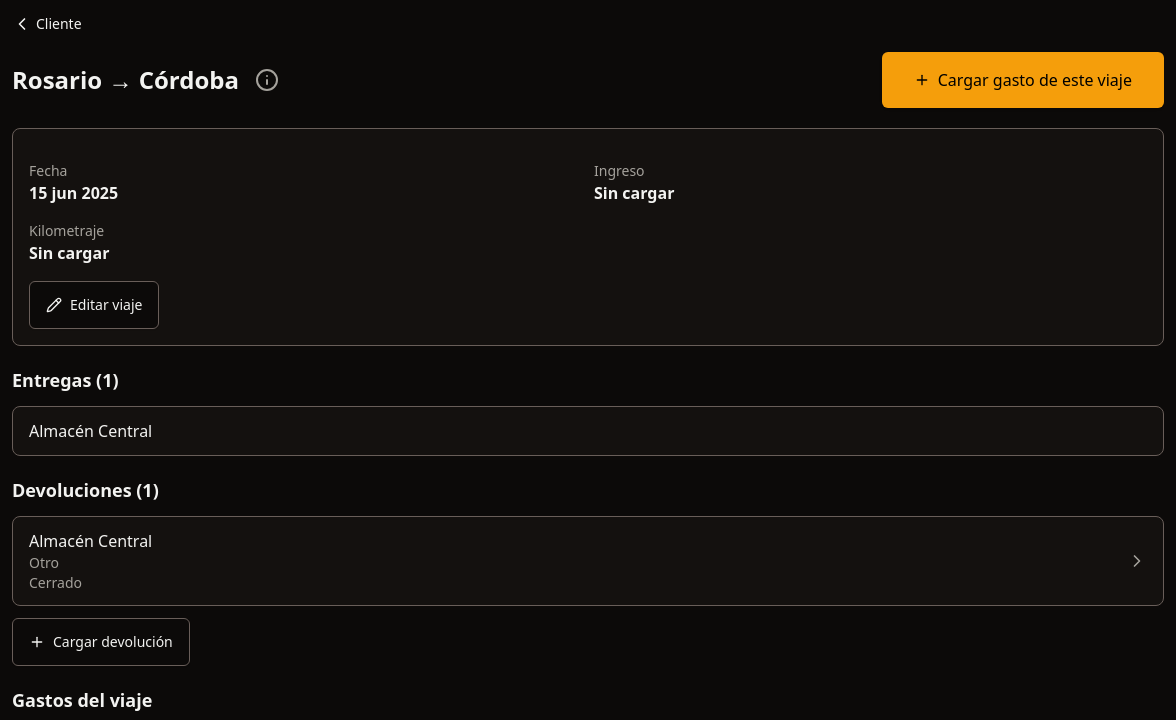
Test case: lo que se abre desde ese detalle devuelve el cliente al volver › editar el viaje: el enlace "Viaje" y el guardado vuelven al detalle con el cliente
Click the link "Editar viaje" at (94, 305), box [29,281,159,329]
(page scrolled)
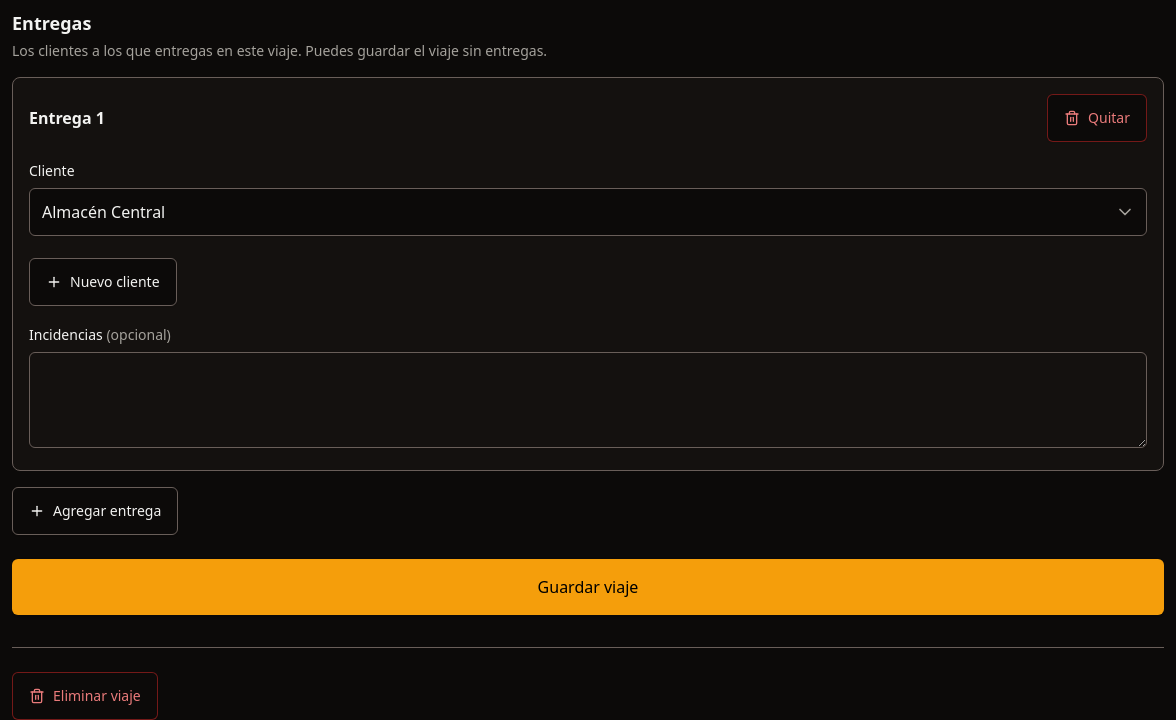
Click the button "Guardar viaje" at (588, 587), box [12,559,1164,615]
(page scrolled)
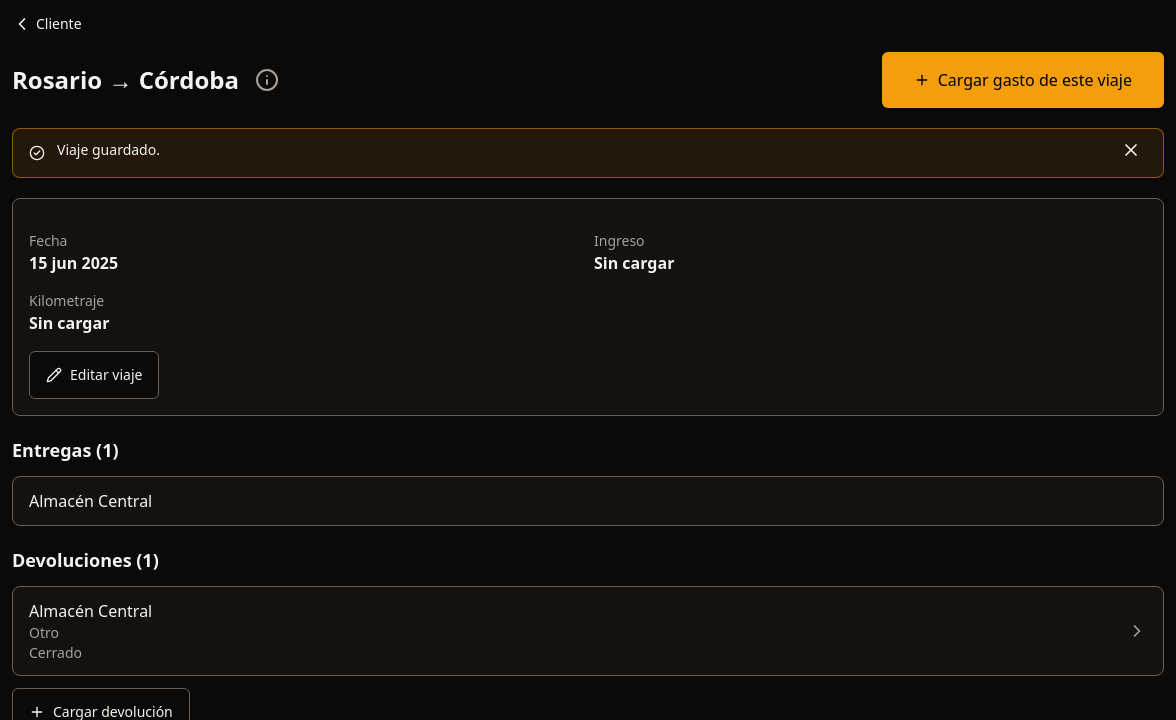
Now the text "Viaje guardado." is shown, box [57,140,160,159]
Now the link with class "min-h-12" reads "Cliente", box [12,14,82,34]
